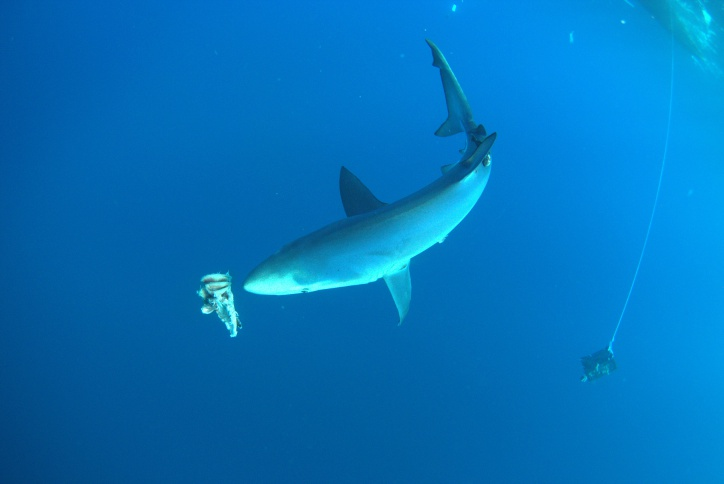Azul: (230, 36, 507, 352)
